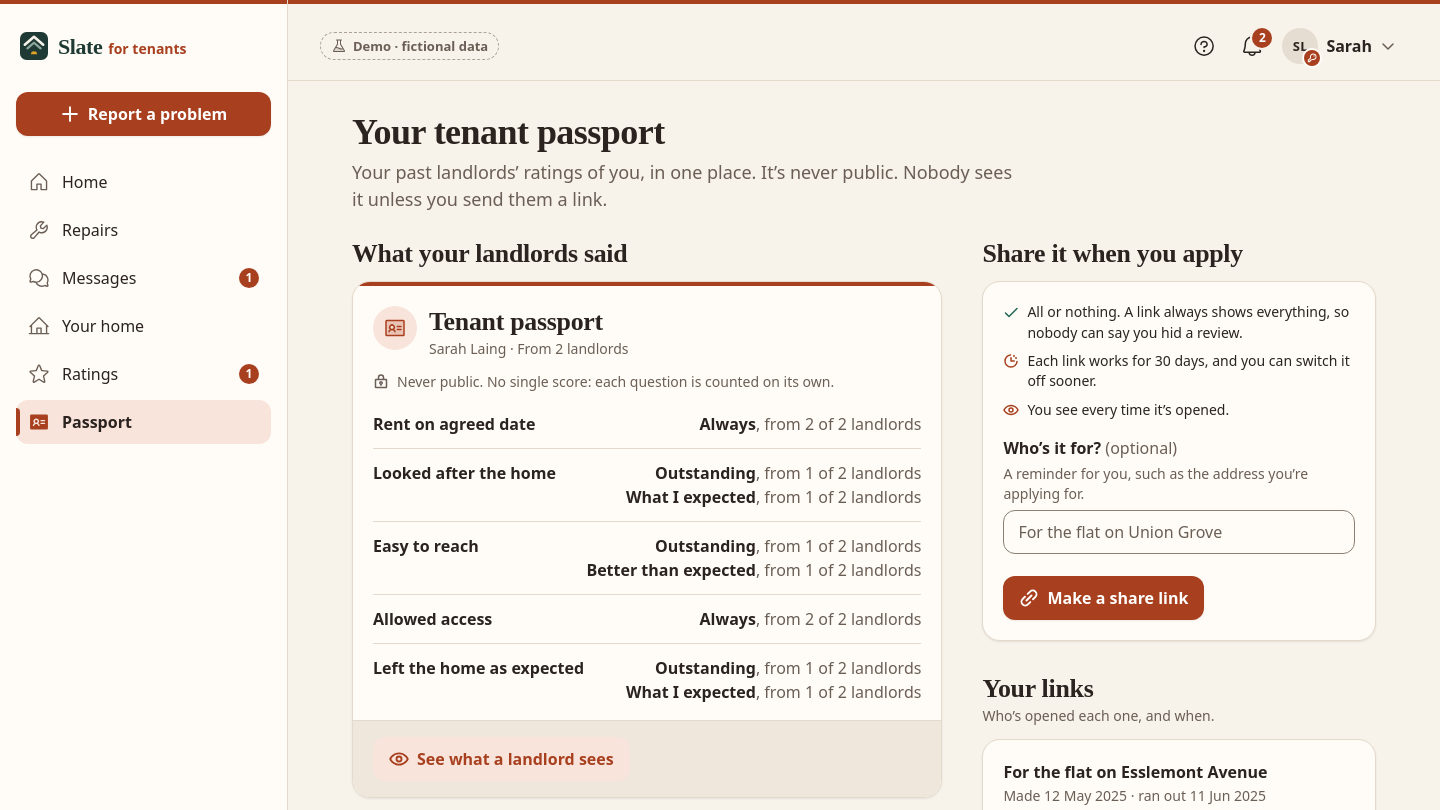
it: the tenant passport › previews exactly what a landlord sees
The width and height of the screenshot is (1440, 810).
What coordinates should you click on to do the following:
click the button "See what a landlord sees"
I would click on:
 (501, 759)
Its box is [373,737,630,781].
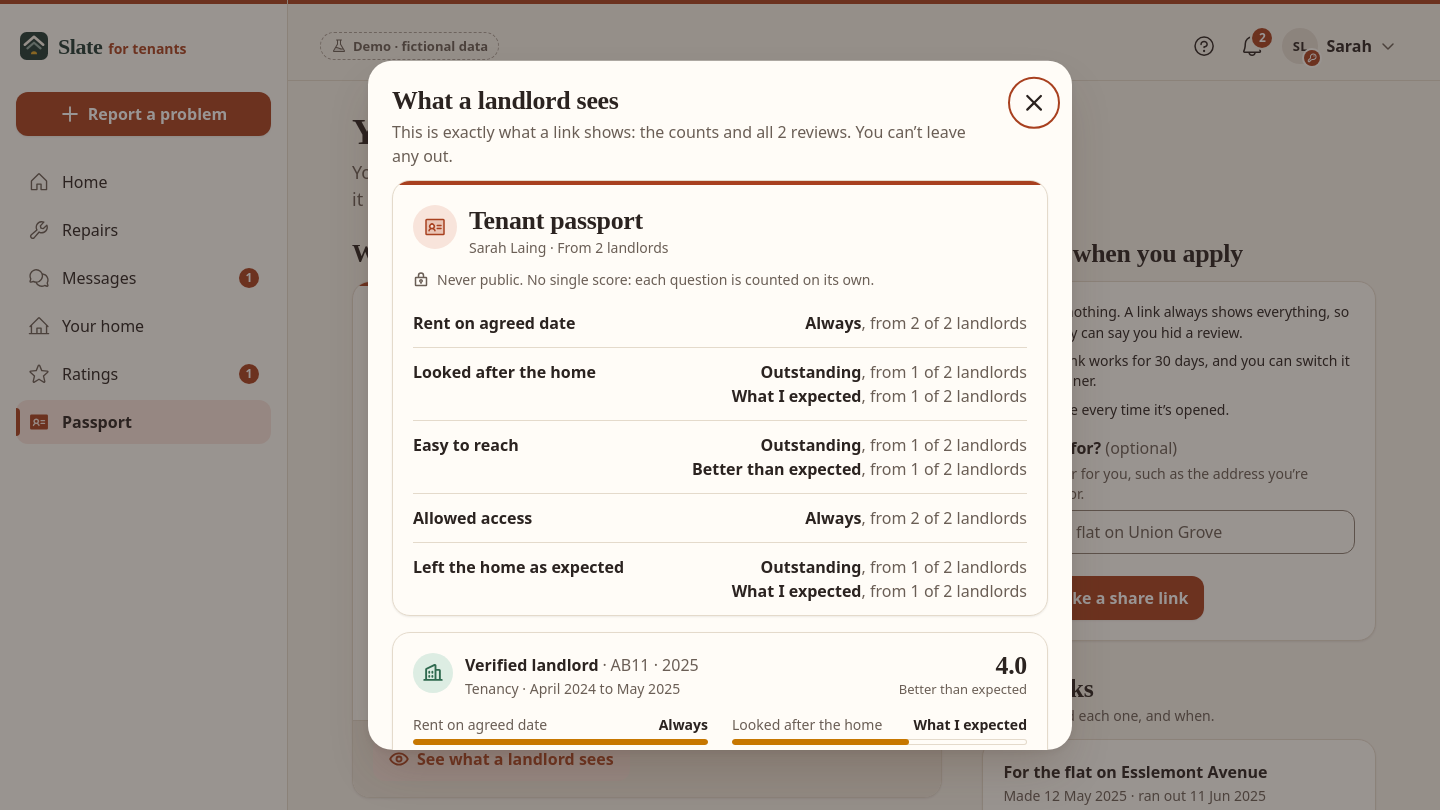
Now the text "You can’t leave any out" is shown, box [392,121,966,167]
Now the text "Verified landlord" is shown 2 times
